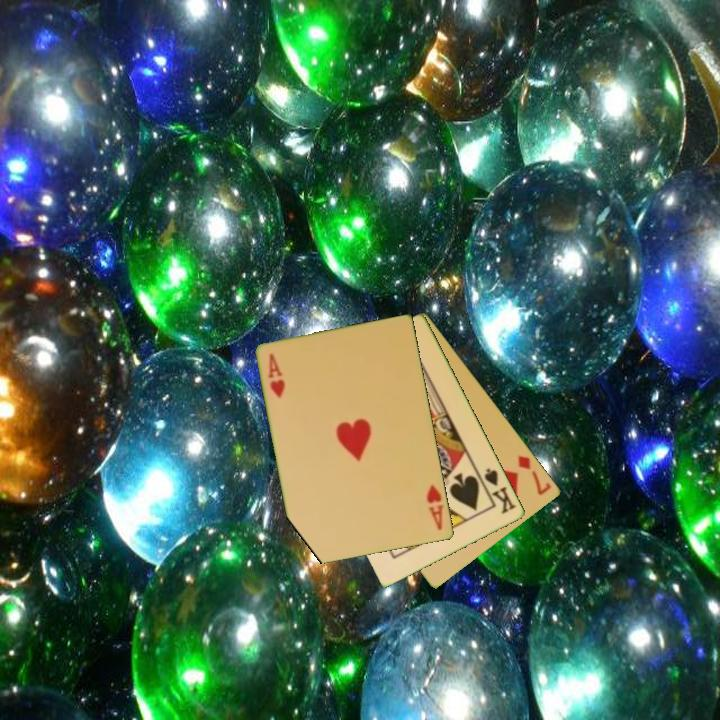7d: (515, 452, 555, 498)
Ah: (423, 481, 447, 533), (264, 350, 288, 402)
Ks: (476, 465, 520, 517)
